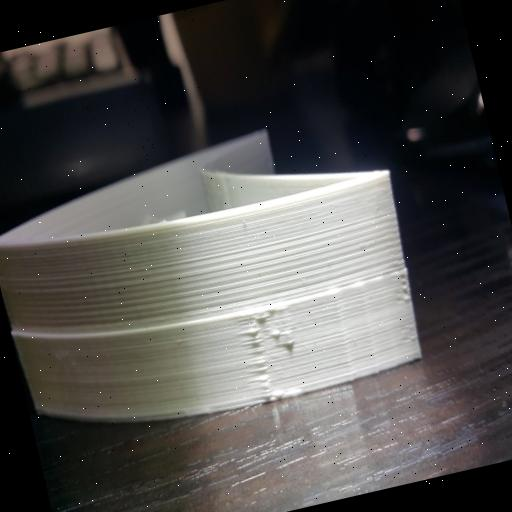blobs: (223, 298, 318, 412)
